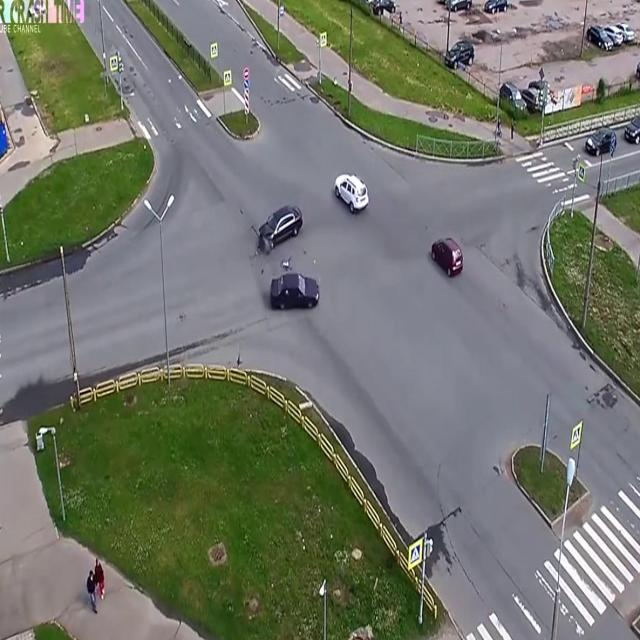accident: (251, 192, 329, 324)
